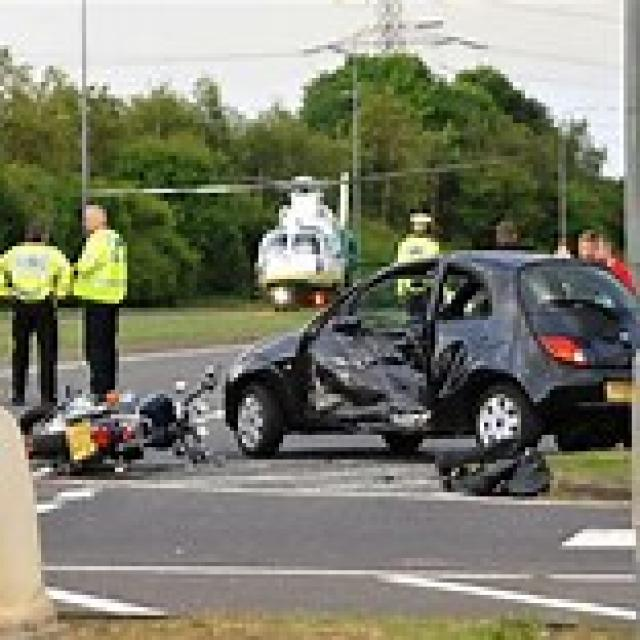Accident: (110, 179, 640, 556)
